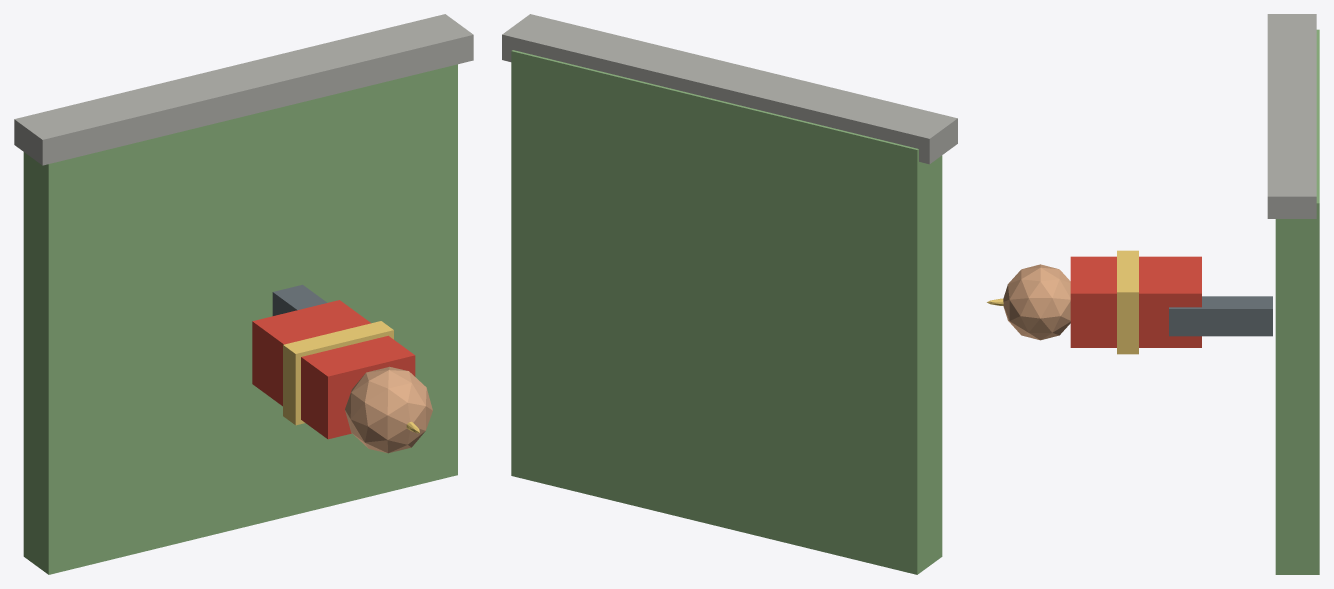
The model's file is 10_CamQuan.glb.
3 views of the same model, side by side, from view 1: azimuth 30°, elevation 25°; view 2: azimuth 150°, elevation 25°; view 3: azimuth 270°, elevation 25° (orthographic). The views are drawn at different scales.
Parts seen in each view (by area): view 1: base, edge, body, head, belt, leg; view 2: base, edge; view 3: base, edge, body, head, leg, belt.
Boxes of the visible parts, left/top/right/bottom form: base: left=23, top=64, right=457, bottom=574; edge: left=14, top=14, right=473, bottom=165; body: left=252, top=300, right=415, bottom=439; head: left=345, top=366, right=432, bottom=453; belt: left=283, top=321, right=393, bottom=425; leg: left=272, top=284, right=327, bottom=315; base: left=511, top=50, right=942, bottom=574; edge: left=502, top=14, right=957, bottom=164; base: left=1275, top=29, right=1319, bottom=574; edge: left=1267, top=14, right=1316, bottom=218; body: left=1070, top=256, right=1201, bottom=347; head: left=1003, top=264, right=1070, bottom=340; leg: left=1169, top=296, right=1272, bottom=336; belt: left=1117, top=250, right=1138, bottom=354.
Size of the model in its own units: 1.58 by 1.55 by 1.22.
